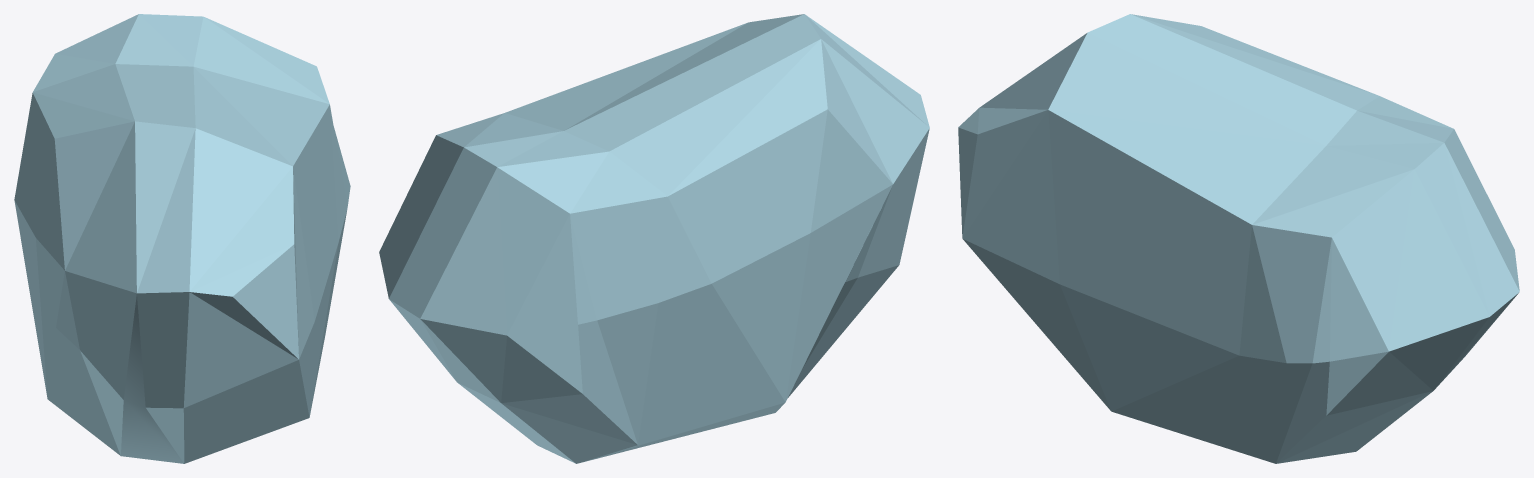
File: cloud2.glb
3 views of the same model, side by side, from view 1: azimuth 30°, elevation 25°; view 2: azimuth 150°, elevation 25°; view 3: azimuth 270°, elevation 25° (orthographic). The views are drawn at different scales.
Parts seen in each view (by area): view 1: cloud2; view 2: cloud2; view 3: cloud2.
Part boxes in pixels (box(x1,y1,x2,y2)): cloud2: box(14, 14, 350, 463); cloud2: box(379, 14, 929, 463); cloud2: box(958, 14, 1519, 463).
Size of the model in its own units: 1.71 by 1.55 by 2.22.
